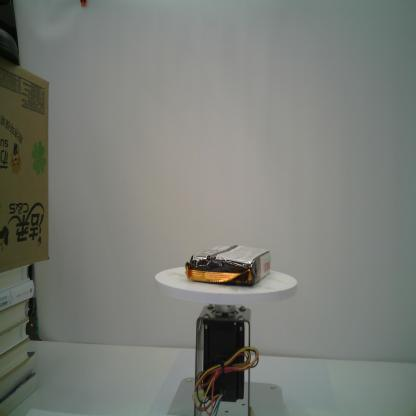Dessert: (184, 240, 272, 288)
